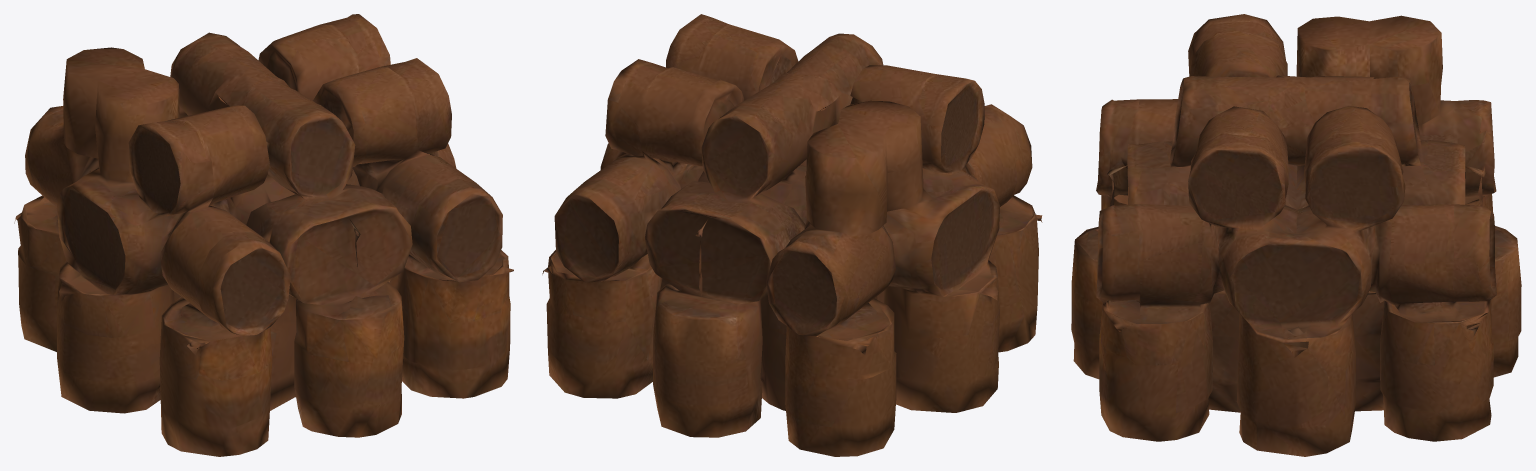
File: barrels.glb
The picture shows the model from 3 angles, left to right: view 1: azimuth 30°, elevation 25°; view 2: azimuth 150°, elevation 25°; view 3: azimuth 270°, elevation 25°; orthographic projection.
Parts seen in each view (by area): view 1: Mesh_0; view 2: Mesh_0; view 3: Mesh_0.
Part boxes in pixels (x1,y1,x2,y2): Mesh_0: (14, 14, 513, 456); Mesh_0: (542, 14, 1042, 456); Mesh_0: (1071, 14, 1521, 456).
Size of the model in its own units: 1.89 by 1.24 by 1.81.
Materials: 1 (1 with a texture image).
